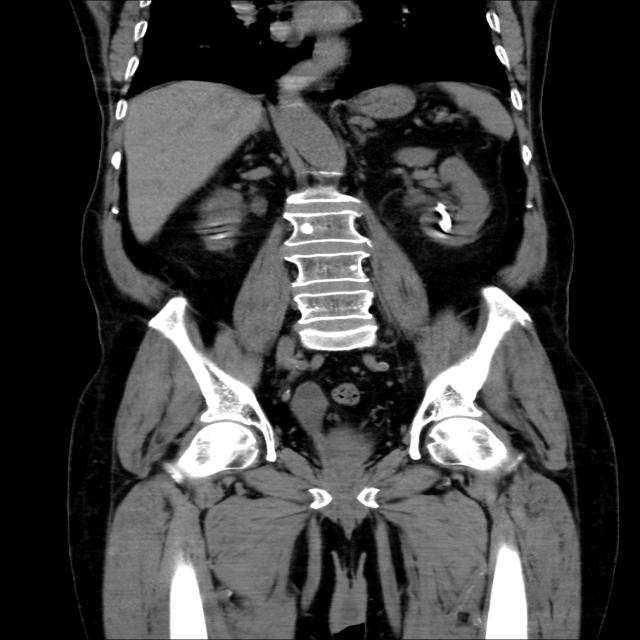kidneystone: (435, 202, 452, 232)
